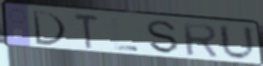D: (30, 9, 69, 48)
L: (110, 16, 141, 52)
R: (180, 21, 220, 59)
S: (145, 19, 180, 56)
T: (71, 12, 101, 51)
U: (217, 22, 258, 63)
